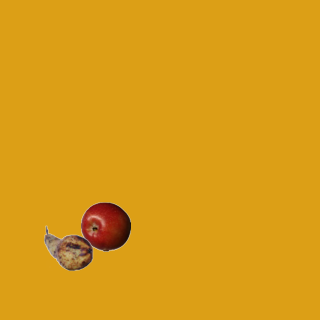Apple Braeburn: (80, 201, 130, 251)
Pear Abate: (43, 223, 93, 273)
